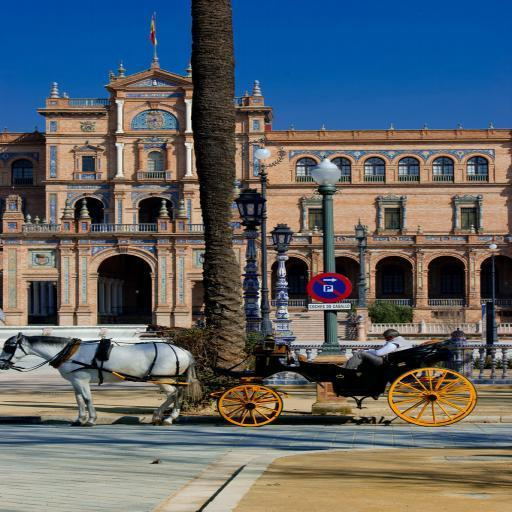horse: (0, 331, 208, 428)
